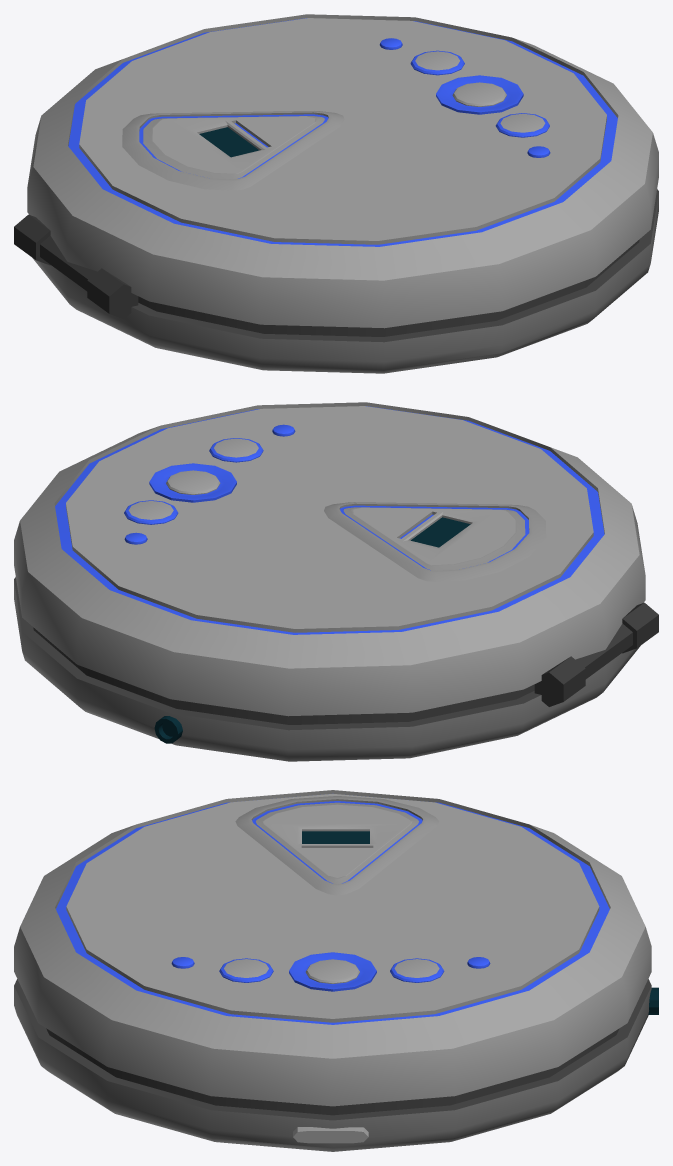
The model's file is CDPlayer_01.glb.
3 renders of one model, top to bottom at view 1: azimuth 30°, elevation 25°; view 2: azimuth 150°, elevation 25°; view 3: azimuth 270°, elevation 25°, orthographic.
Parts seen in each view (by area): view 1: Mesh_CDPlayer_01; view 2: Mesh_CDPlayer_01; view 3: Mesh_CDPlayer_01.
Boxes of the visible parts, bbox=[...] form: Mesh_CDPlayer_01: bbox=[14, 14, 658, 373]; Mesh_CDPlayer_01: bbox=[14, 402, 658, 761]; Mesh_CDPlayer_01: bbox=[14, 790, 658, 1151].
Bounding box in the file's own units: 0.1812 × 0.0412 × 0.1801.
1 material, 1 textured.
